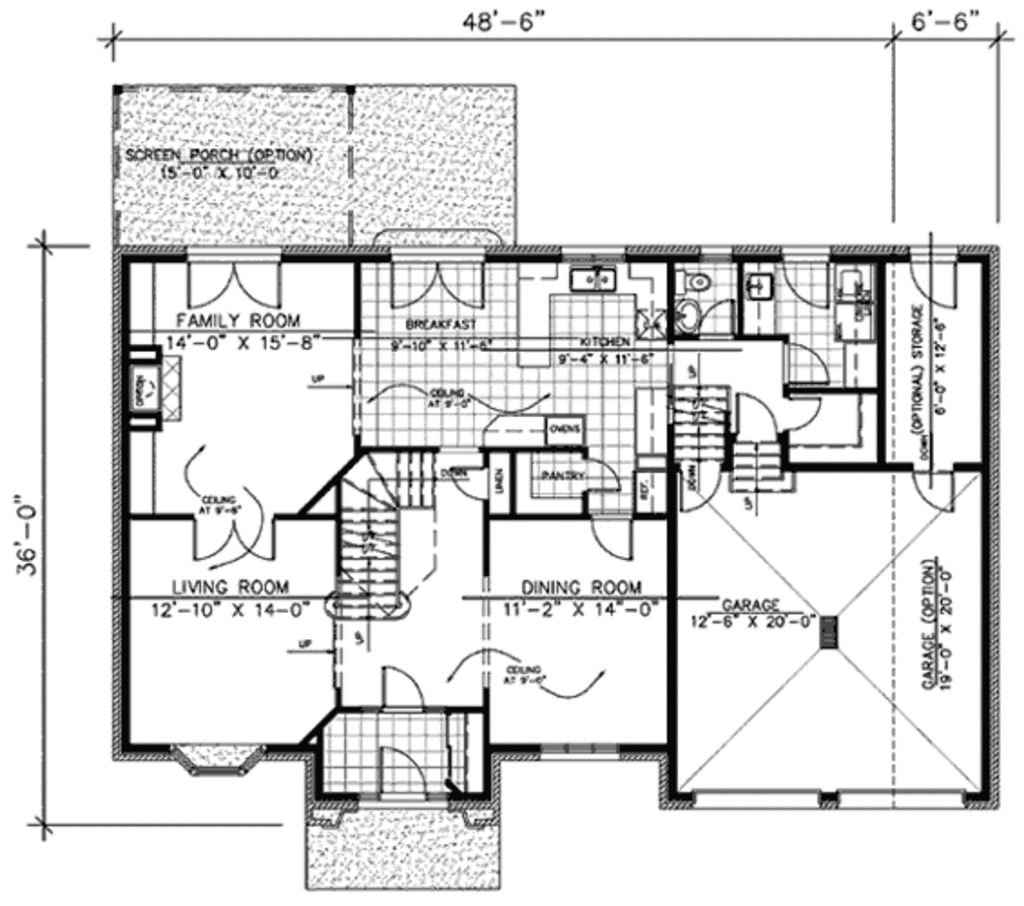door: (182, 258, 281, 315), (386, 260, 487, 312), (186, 513, 279, 568), (374, 745, 429, 806), (776, 260, 831, 312), (905, 262, 961, 312), (586, 515, 639, 567), (907, 468, 961, 516), (732, 390, 782, 441), (675, 468, 723, 519), (380, 660, 424, 715), (780, 340, 830, 386), (585, 453, 630, 499), (783, 393, 825, 438), (695, 299, 738, 342), (448, 465, 486, 502)
large_sink: (668, 264, 714, 302)
stairs: (326, 447, 442, 627), (665, 384, 736, 470), (729, 438, 789, 494)
twin_sink: (562, 264, 623, 299)
window: (536, 742, 623, 764), (556, 245, 630, 263), (904, 246, 966, 266), (779, 245, 831, 265), (697, 245, 734, 266)
